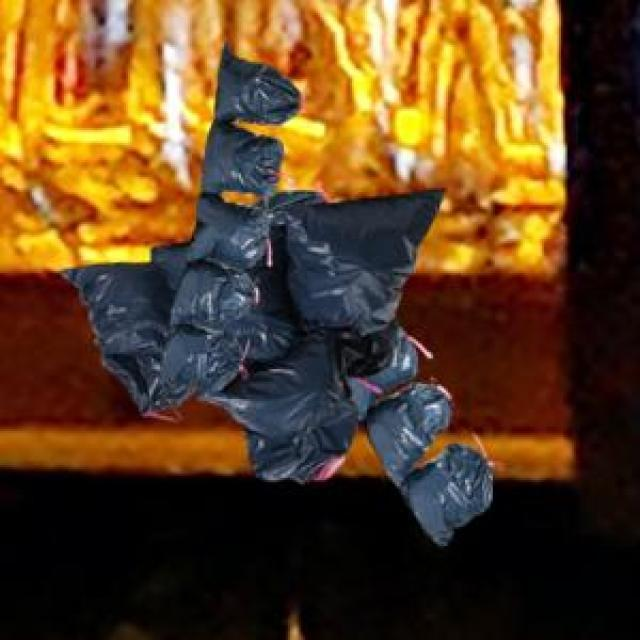waste: (68, 46, 490, 542)
